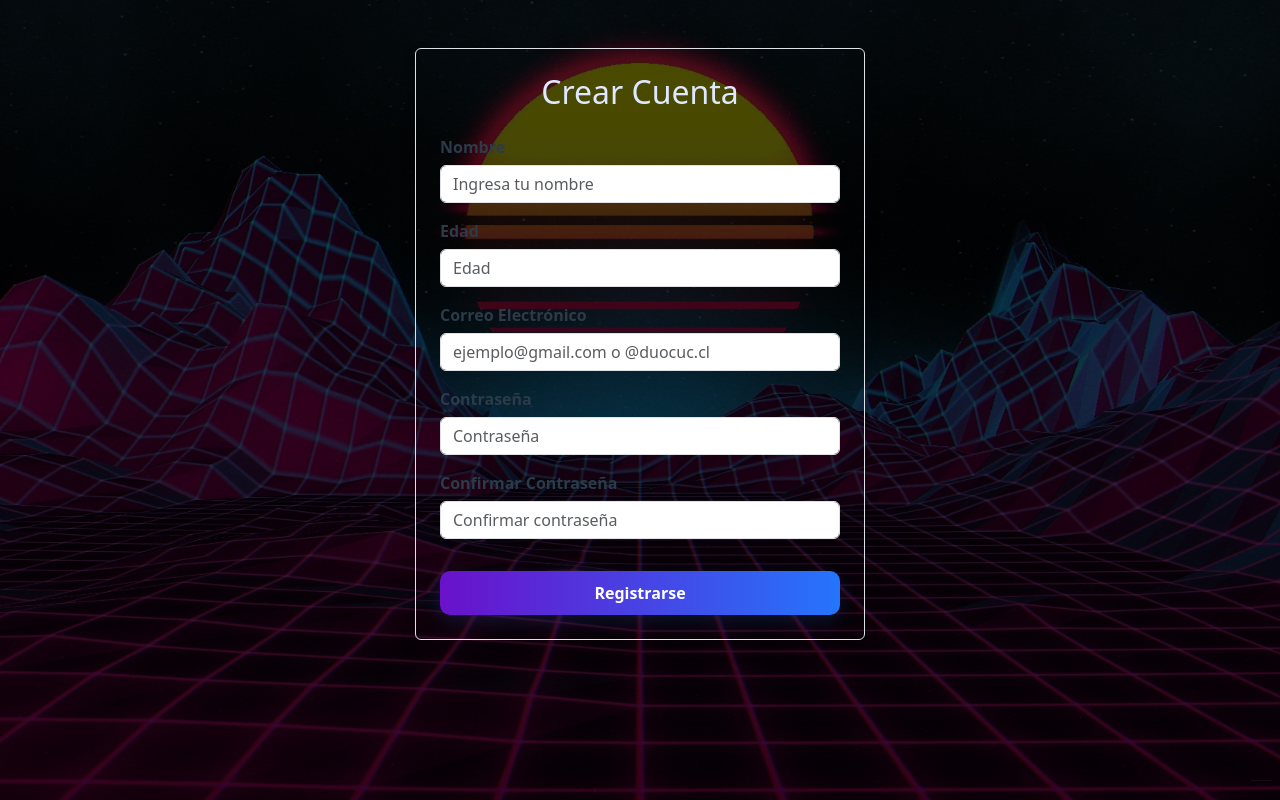
Test: Componente Registro › muestra error si el nombre tiene menos de 3 letras
Type "Jo" into the field with placeholder "Ingresa tu nombre" at (640, 184), box [440,165,840,203]
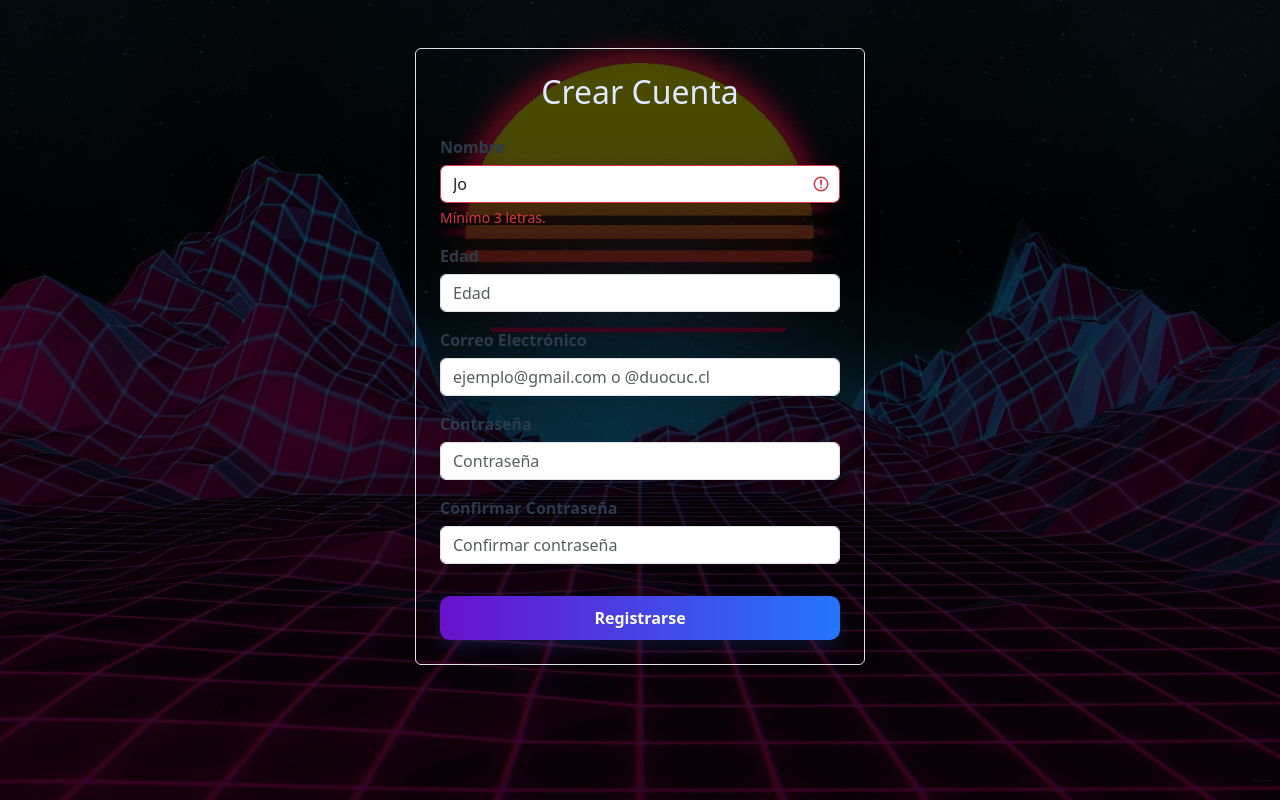
Click the button "Registrarse" at (640, 618), box [440,596,840,640]
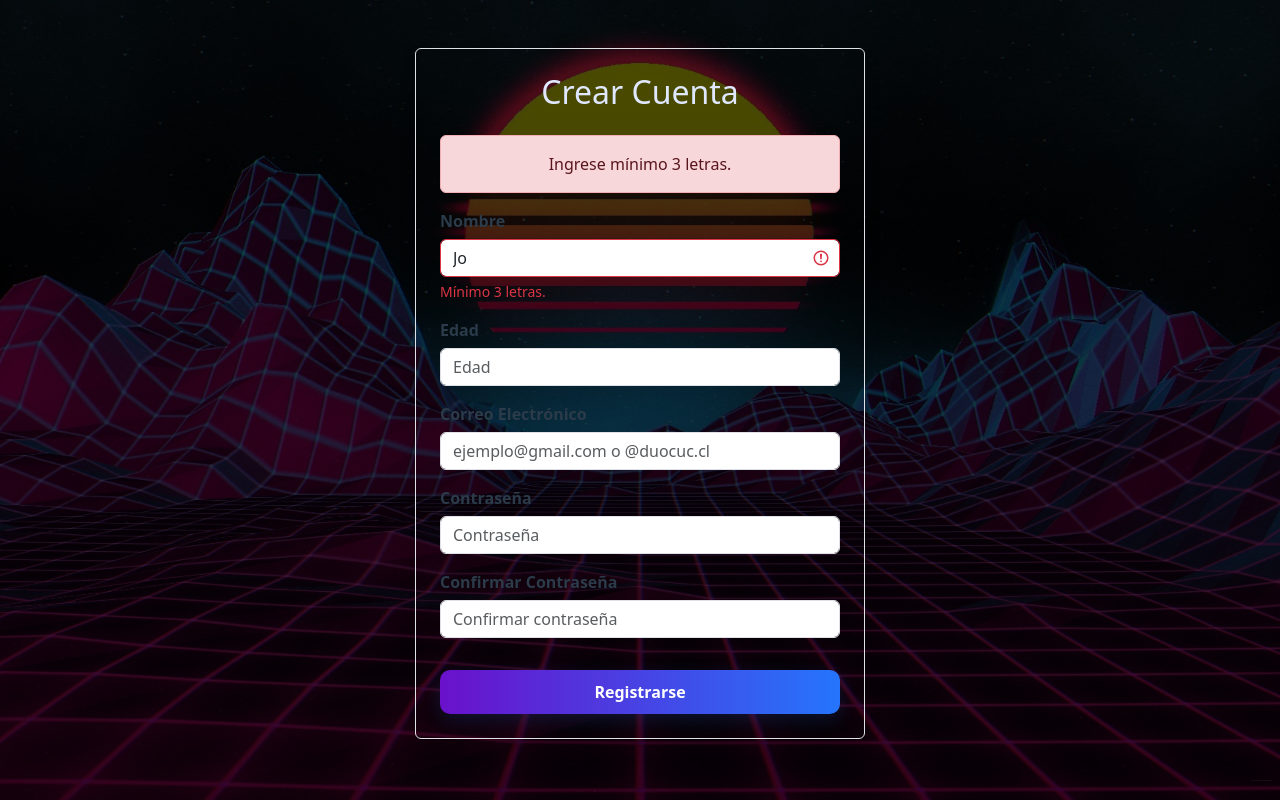
Now the text "Ingrese mínimo 3 letras." is shown, box [440,135,840,193]
